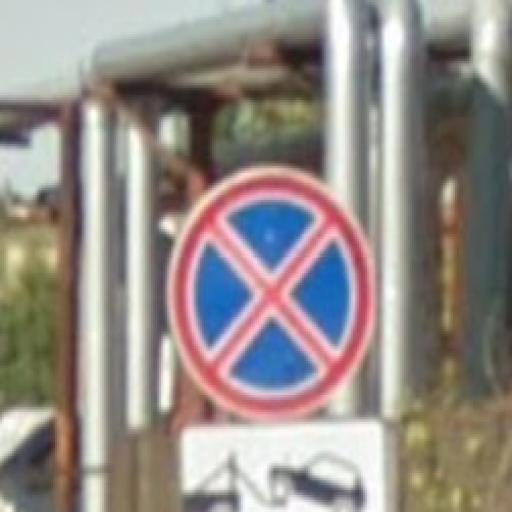traffic_sign: (167, 165, 377, 421)
